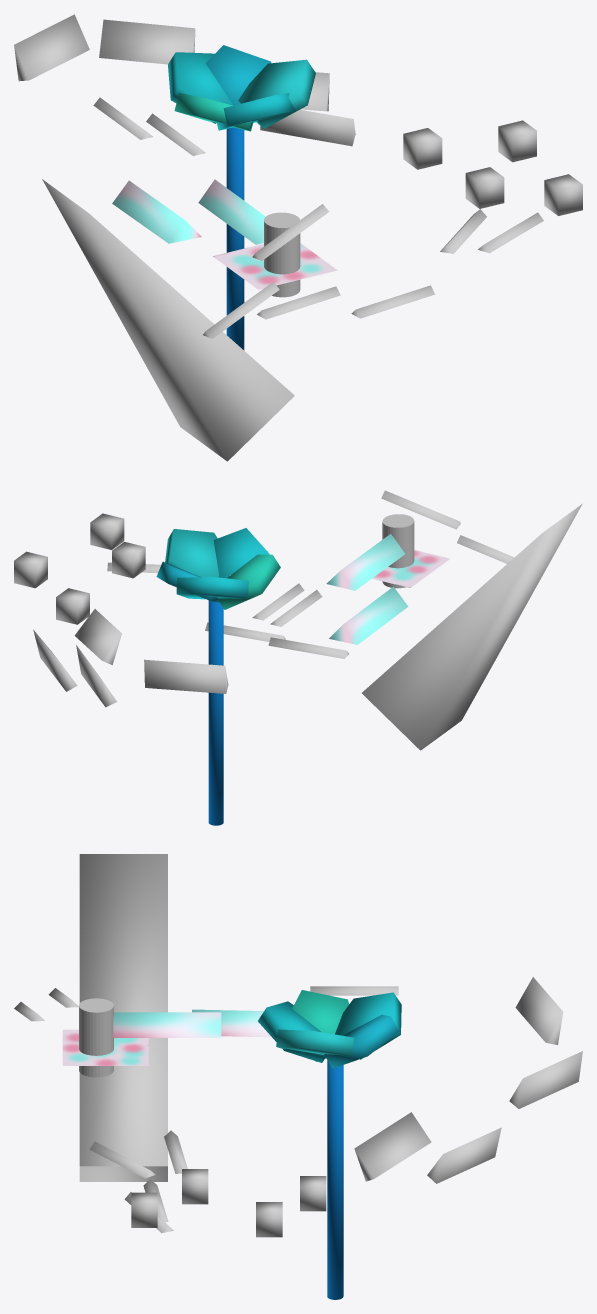
The model's file is KevWorldColorFour.obj.
3 views of the same model, one above another, from view 1: azimuth 30°, elevation 25°; view 2: azimuth 150°, elevation 25°; view 3: azimuth 270°, elevation 25° (orthographic). The views are drawn at different scales.
Visible parts, largest first — view 1: Basic_Ramp.012_Cube.022, Basic_Ramp.003_Cube.009, Basic_Ramp.002_Cube.003, Cylinder.001, Cylinder.003, Basic_Ramp.001_Cube.025, Baseplane_Plane, Cylinder.002, Basic_Ramp.006_Cube.012, Cylinder.007, Basic_Ramp_Cube, Cylinder.006 (+15 smaller); view 2: Basic_Ramp.012_Cube.022, Cylinder.001, Basic_Ramp.002_Cube.003, Cylinder.003, Basic_Ramp.001_Cube.025, Basic_Ramp_Cube, Cylinder.004, Basic_Ramp.006_Cube.012, Cylinder.005, Cylinder.002, Cylinder.007, Baseplane_Plane (+13 smaller); view 3: Basic_Ramp.012_Cube.022, Cylinder.001, Basic_Ramp_Cube, Basic_Ramp.006_Cube.012, Cylinder.007, Baseplane_Plane, Basic_Ramp.003_Cube.009, Basic_Ramp.002_Cube.003, Basic_Ramp.005_Cube.011, Cylinder.002, Cylinder.006, Cylinder.003 (+10 smaller).
Boxes of the visible parts, x1,y1,x2,y2 form: Basic_Ramp.012_Cube.022: (42,179,294,461); Basic_Ramp.003_Cube.009: (99,19,195,64); Basic_Ramp.002_Cube.003: (14,14,89,81); Cylinder.001: (226,127,244,350); Cylinder.003: (238,59,315,128); Basic_Ramp.001_Cube.025: (112,180,201,243); Baseplane_Plane: (213,243,337,289); Cylinder.002: (168,52,232,123); Basic_Ramp.006_Cube.012: (260,109,355,146); Cylinder.007: (264,212,300,297); Basic_Ramp_Cube: (198,179,265,244); Cylinder.006: (205,45,271,105); Basic_Ramp.012_Cube.022: (362,503,582,750); Cylinder.001: (208,600,223,825); Basic_Ramp.002_Cube.003: (144,659,228,693); Cylinder.003: (165,529,219,577); Basic_Ramp.001_Cube.025: (329,586,408,644); Basic_Ramp_Cube: (326,534,404,590); Cylinder.004: (213,528,269,578); Basic_Ramp.006_Cube.012: (74,609,121,664); Cylinder.005: (218,554,280,609); Cylinder.002: (176,577,248,599); Cylinder.007: (382,514,414,588); Baseplane_Plane: (372,550,449,587); Basic_Ramp.012_Cube.022: (79,854,167,1181); Cylinder.001: (327,1060,343,1299); Basic_Ramp_Cube: (113,1012,221,1037); Basic_Ramp.006_Cube.012: (354,1112,431,1181); Cylinder.007: (79,998,113,1077); Baseplane_Plane: (62,1029,148,1065); Basic_Ramp.003_Cube.009: (509,1051,582,1108); Basic_Ramp.002_Cube.003: (515,977,563,1044); Basic_Ramp.005_Cube.011: (427,1127,501,1183); Cylinder.002: (335,992,401,1059); Cylinder.006: (324,1015,399,1068); Cylinder.003: (276,1029,354,1055).
Bounding box in the file's own units: 1402 × 825 × 1360.
